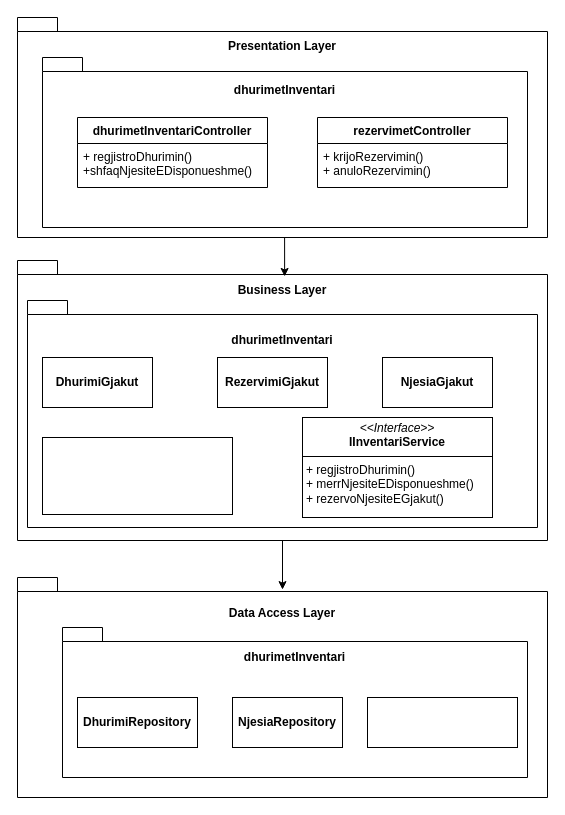
Image size: 565x815. Some labels were removed from this diagram. The centre of each missing label's shape, as x and y in pixels:
<<Factory>> NjesiaGjakutFactory + krijoNjesite(dhurimi): List<NjesiaGjakut>: the point at 137,475
RezervimiRespository: the point at 442,722
